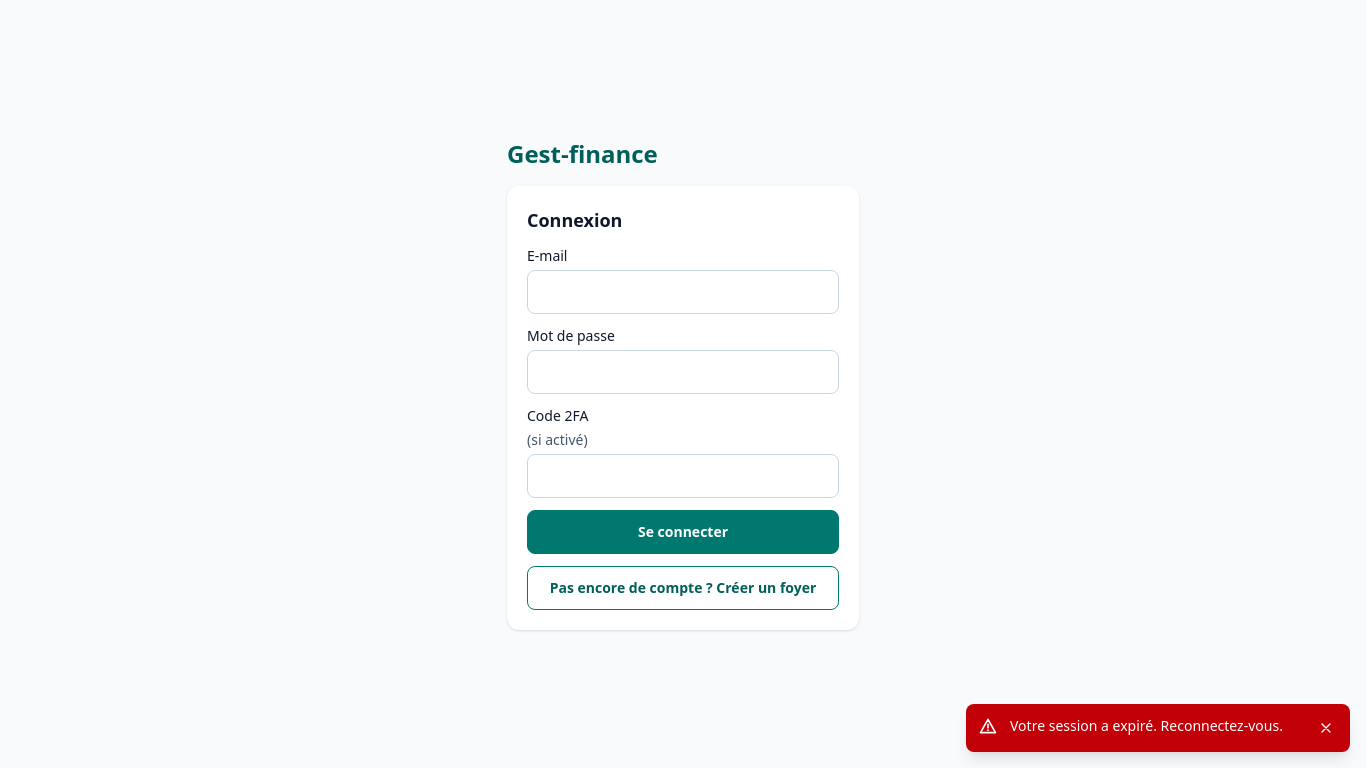
Test: App › affiche la connexion si la session est absente et envoie les identifiants
In the field labelled "E-mail": {"x": 683, "y": 292} top-left (527, 270), bottom-right (839, 314), type "Ada@Example.com"
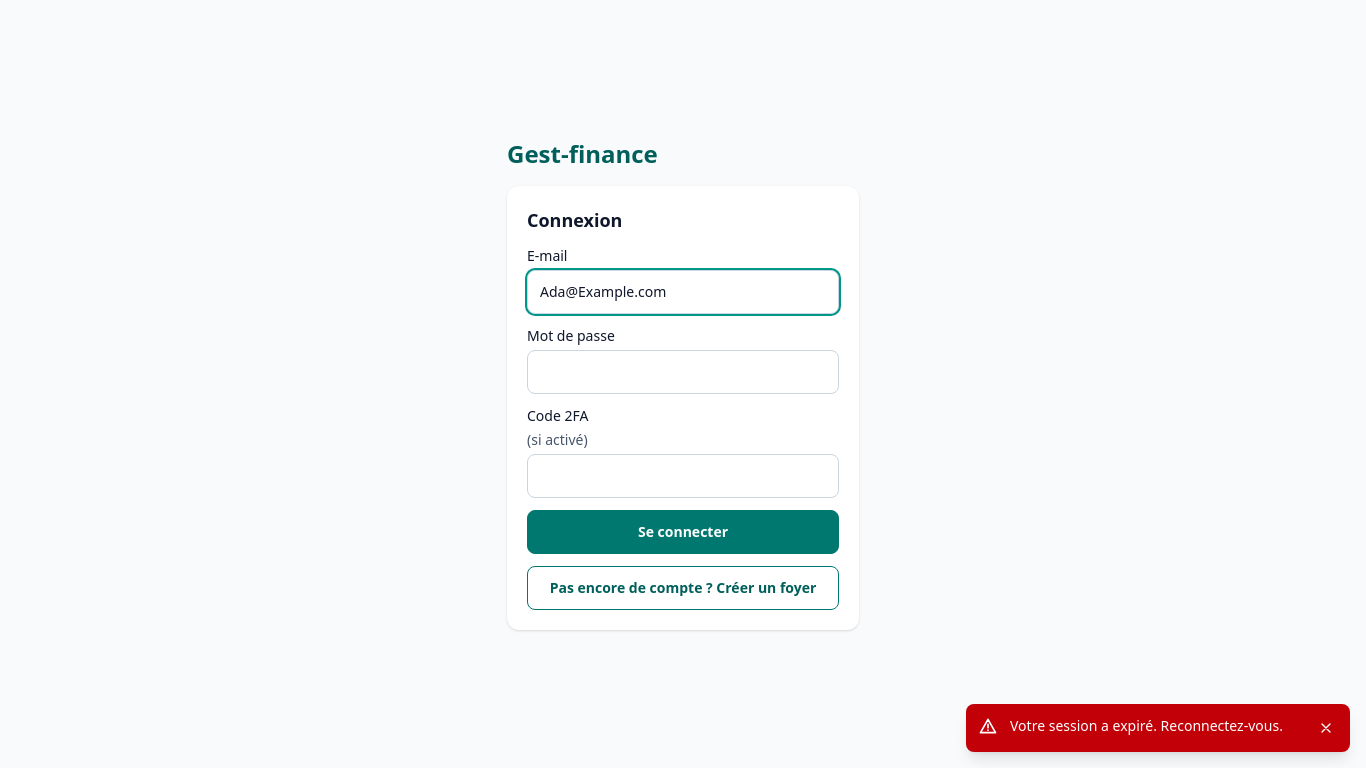
In the password field labelled "Mot de passe": {"x": 683, "y": 372} top-left (527, 350), bottom-right (839, 394), type "correct-horse-battery"
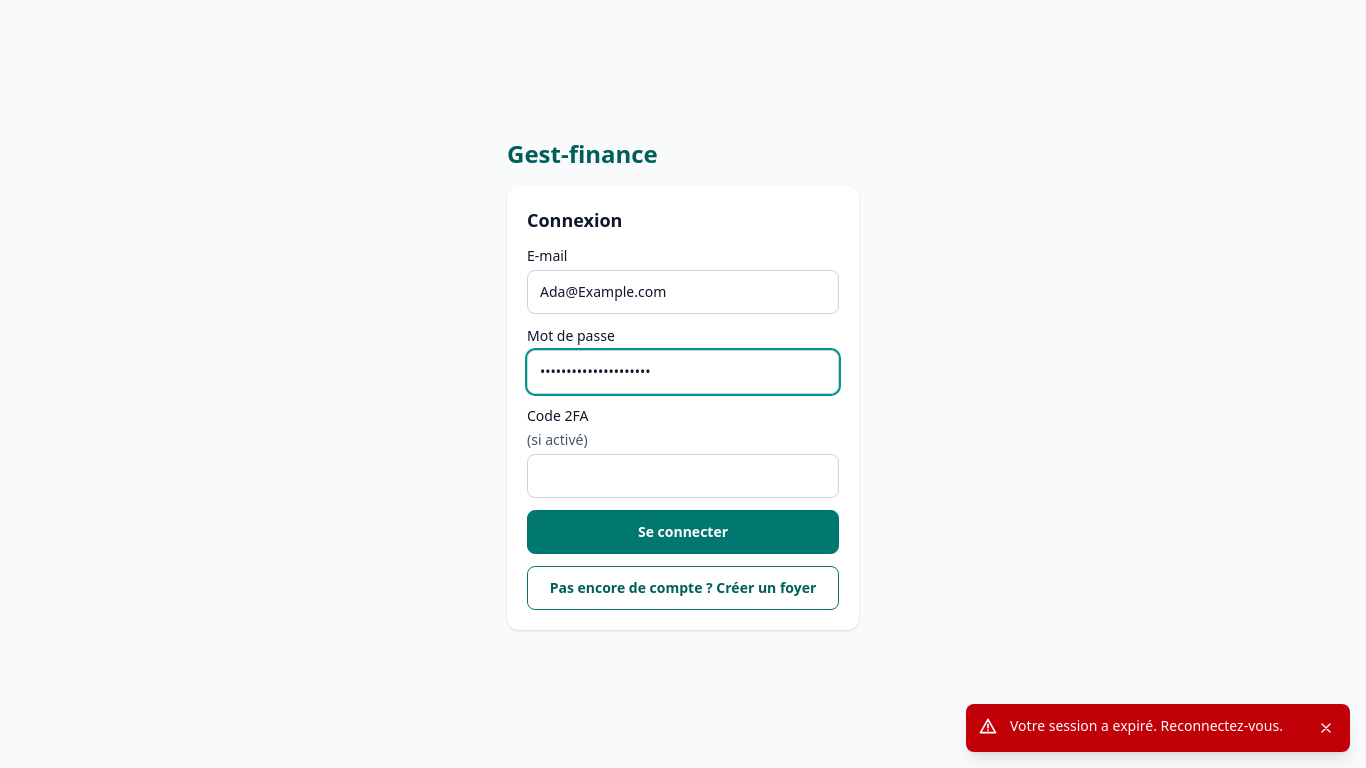
Click the button "Se connecter": {"x": 683, "y": 532} top-left (527, 510), bottom-right (839, 554)
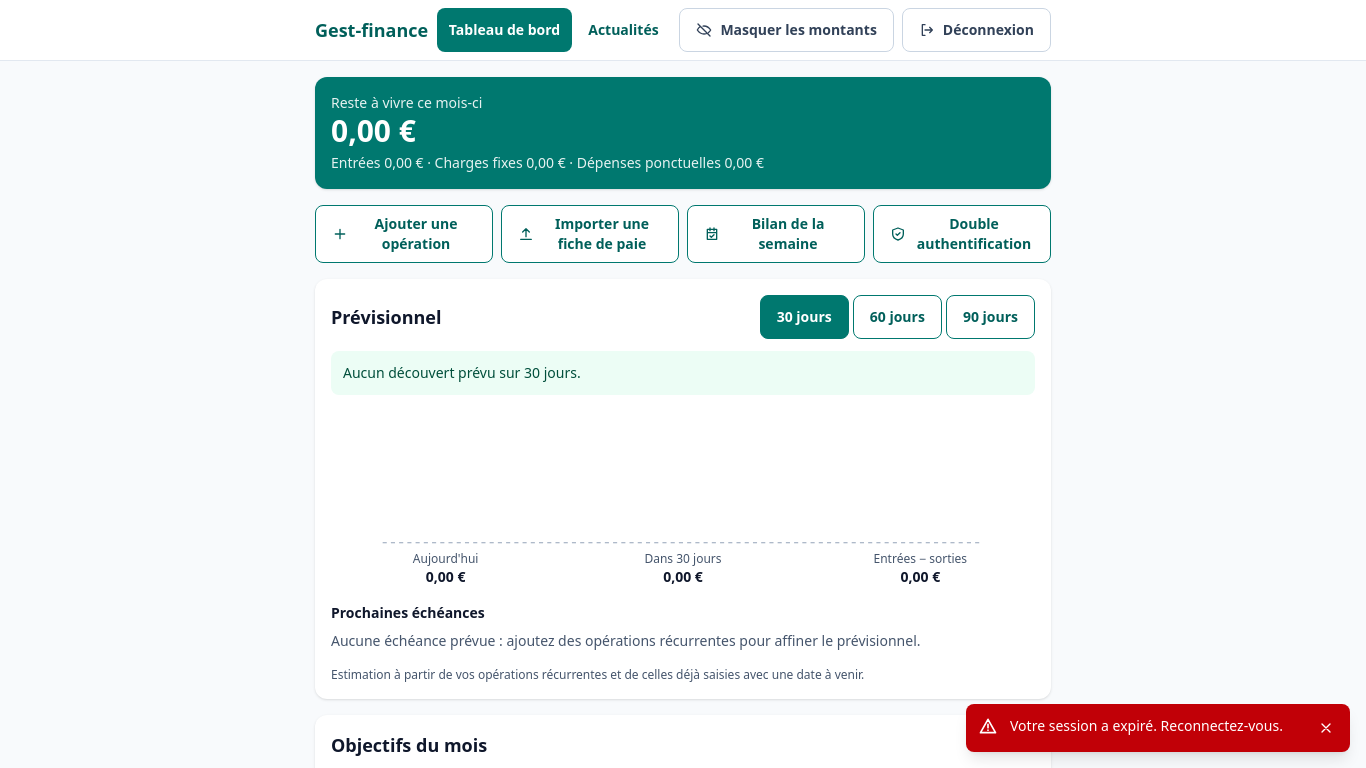
Expected: the element labelled "Reste à vivre" is shown, top-left (315, 77), bottom-right (1051, 189)
